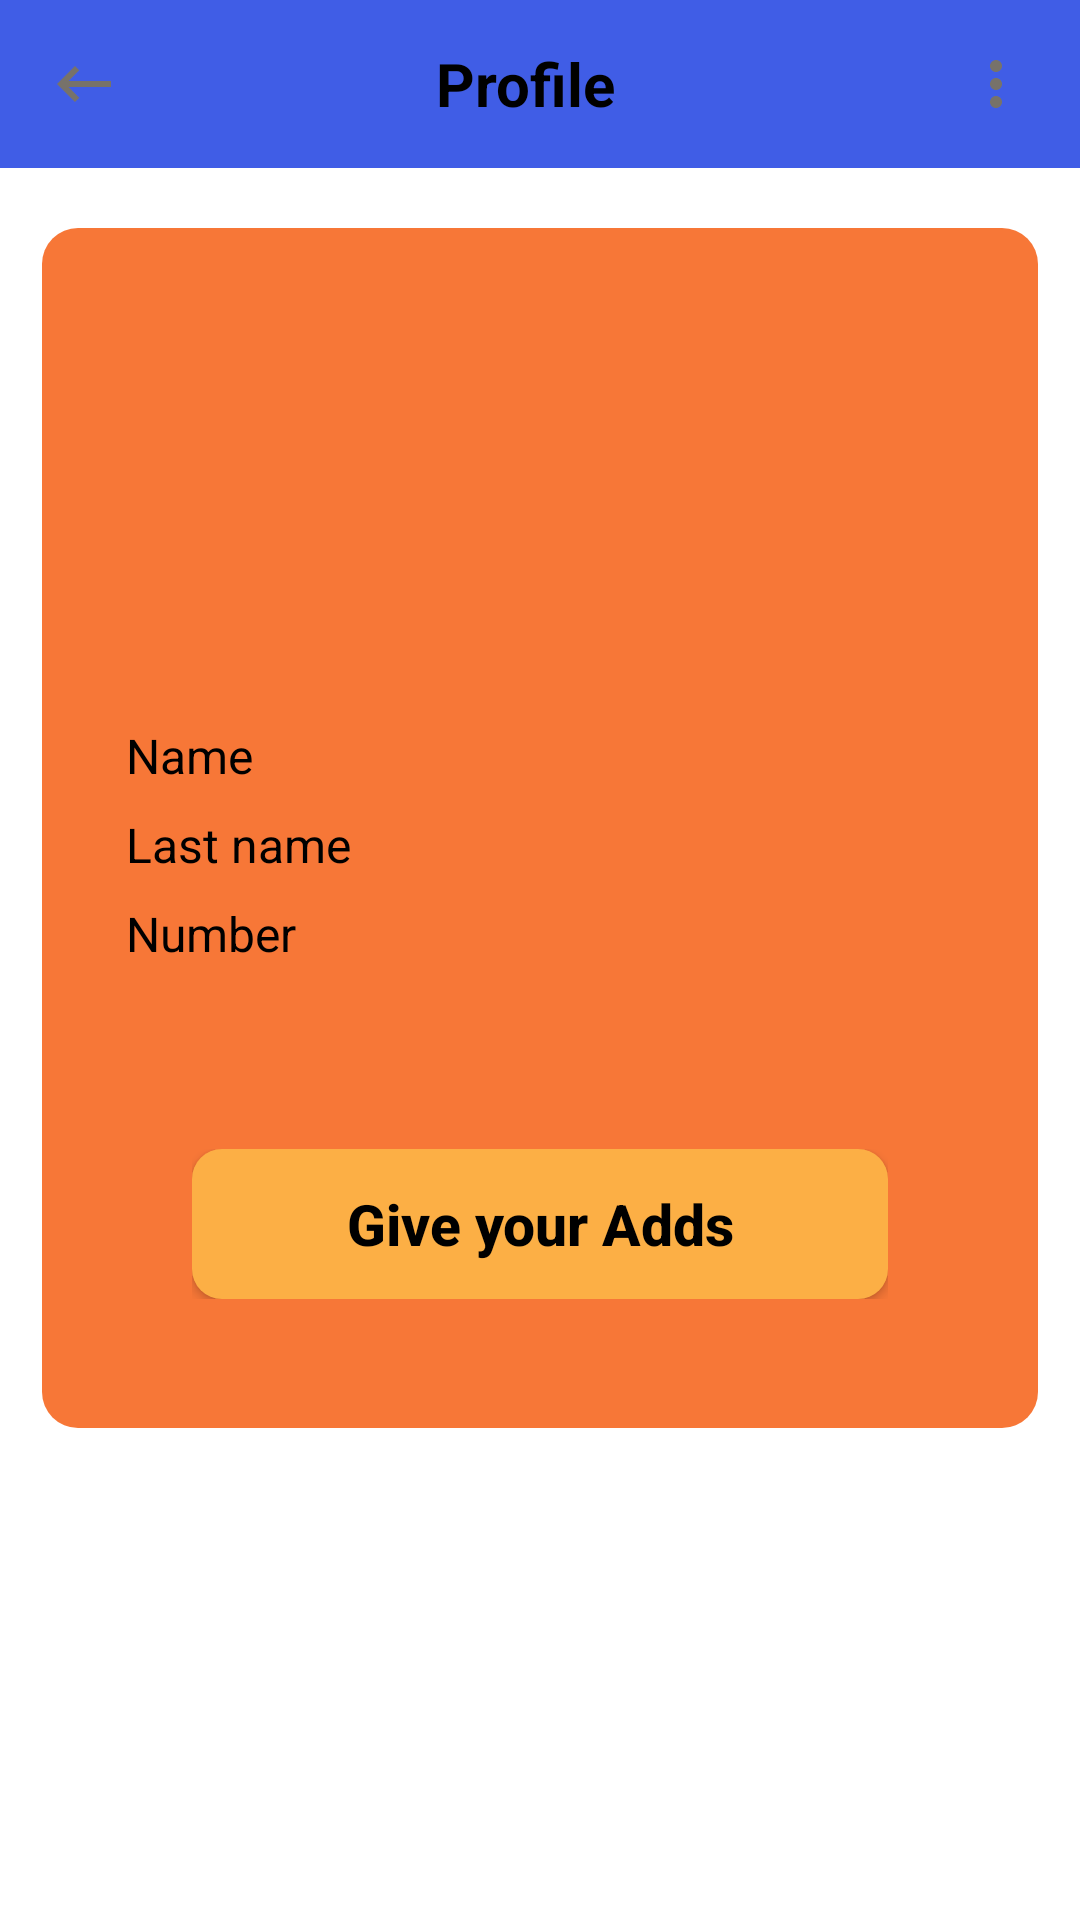

Icons on this 1080 x 1920 Android screen, each with the point to tap as (x=x, y=y):
keyboard backspace: (x=84, y=84)
more vert: (x=996, y=84)
